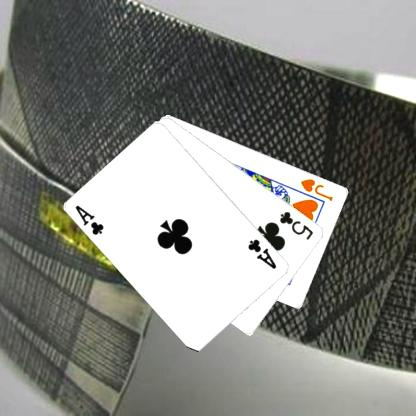5C: (277, 209, 315, 241)
AC: (245, 236, 278, 270), (73, 202, 106, 236)
JH: (298, 176, 335, 202)
